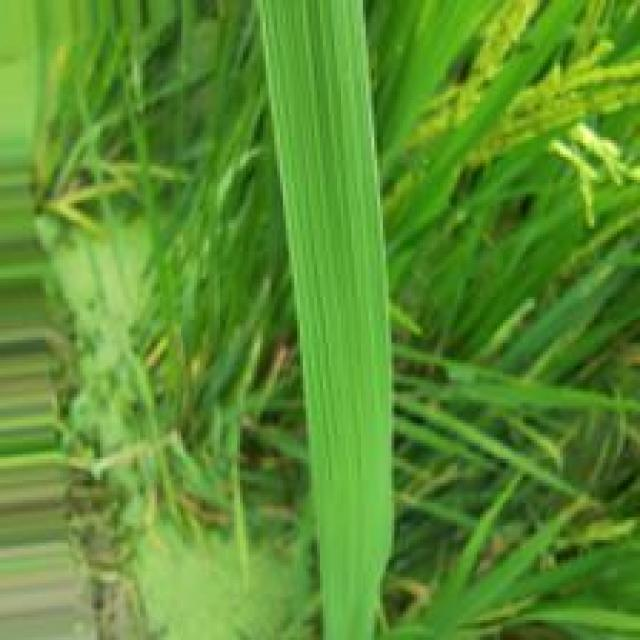HealthyLeaf: (263, 1, 390, 482)
